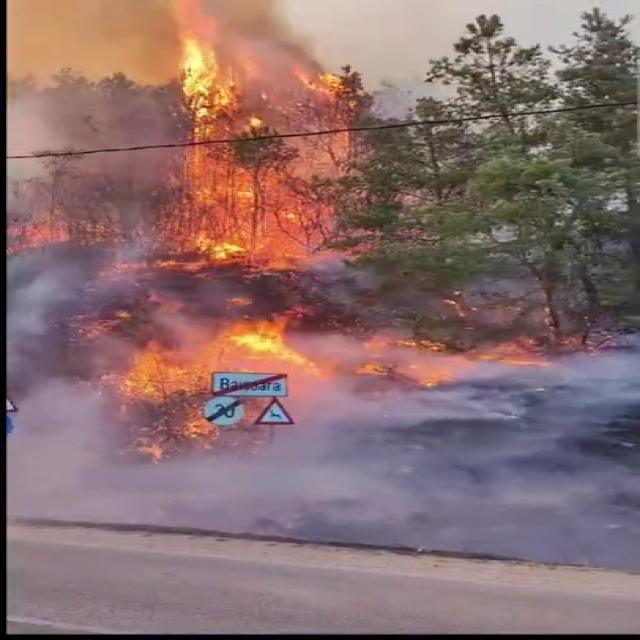Fire: (140, 16, 380, 270), (102, 306, 502, 406)
Smoke: (3, 202, 199, 358)
